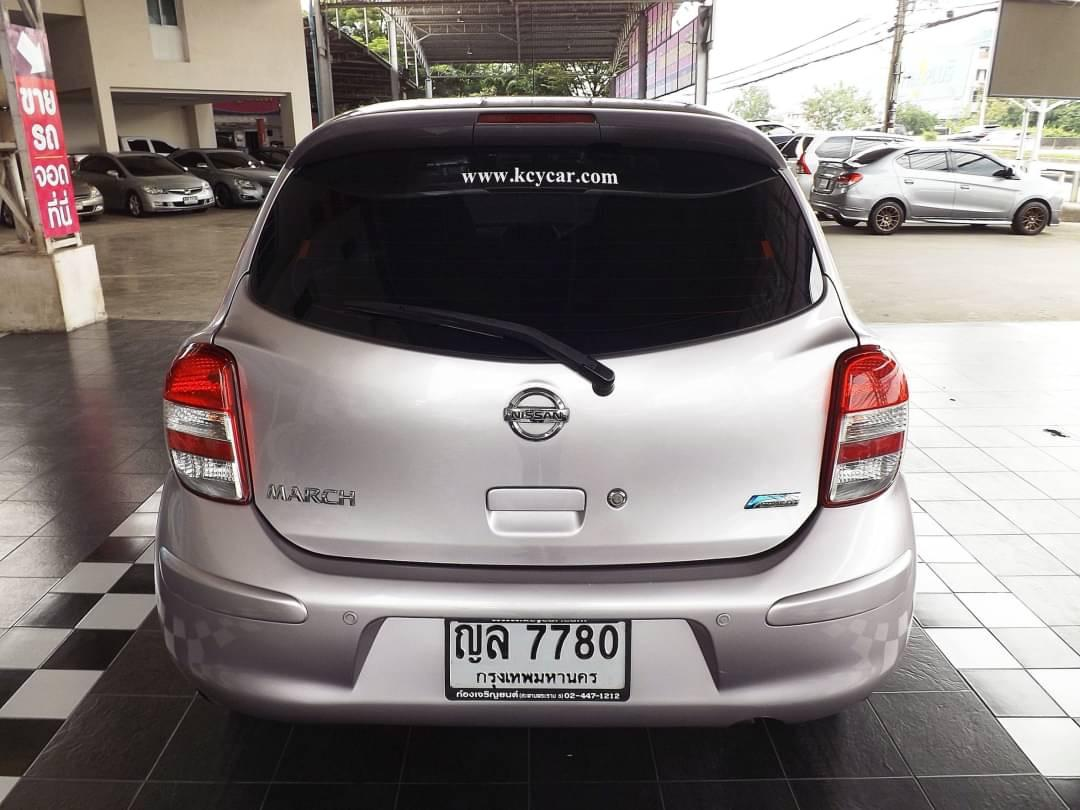license-plate: (438, 610, 635, 709)
